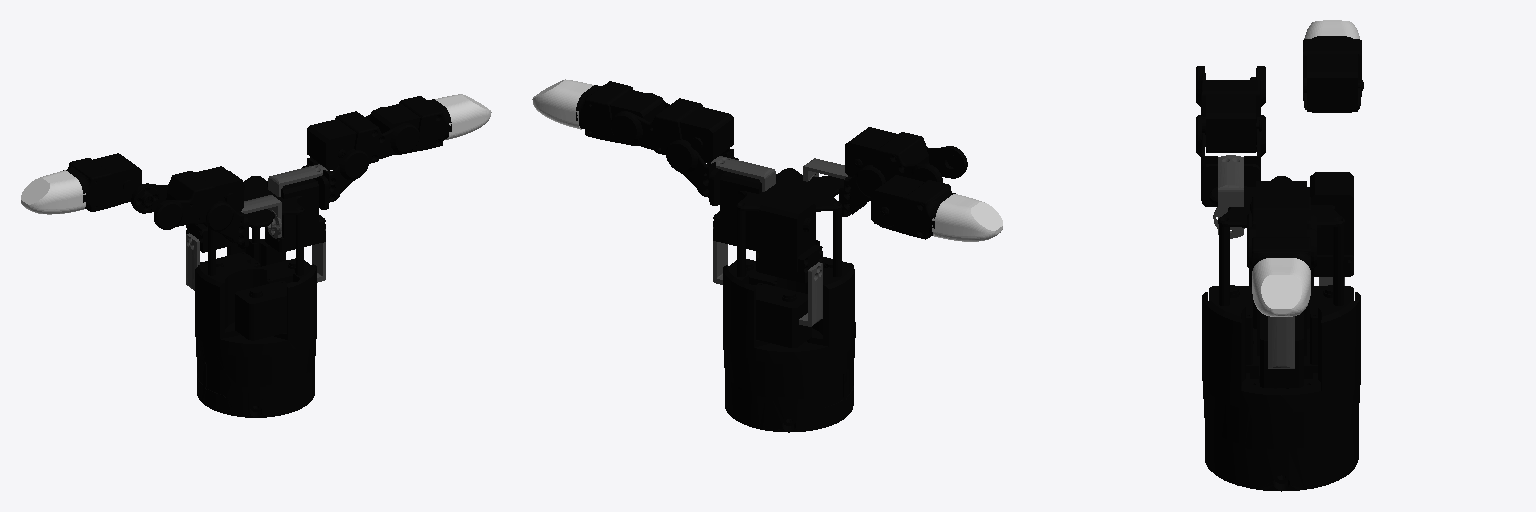
robot.urdf — dg3f_m:
<?xml version="1.0" ?>

<robot name="dg3f_m">

  <link name="l_base">
    <inertial>
      <origin xyz="-0.0022497 0.010893 0.10153" rpy="0.0 0.0 0.0" />
      <mass value="0.451" />
      <inertia ixx="0.00058791" ixy="1.5175E-06" ixz="2.9558E-06" iyy="0.00059695" iyz="2.2019E-06" izz="0.00047118" />
    </inertial>
    <visual>
      <origin xyz="0.0 0.0 0.0" rpy="0.0 0.0 0.0" />
      <geometry>
        <mesh filename="../meshes/DG3FM/visual/l_base.dae" />
      </geometry>
    </visual>
    <collision>
      <origin xyz="0.0 0.0 0.0" rpy="0.0 0.0 0.0" />
      <geometry>
        <mesh filename="../meshes/DG3FM/collision/l_base_c.STL" />
      </geometry>
    </collision>
  </link>

  <!--finger1-->
  <link name="l_1_1">
    <inertial>
      <origin xyz="0.022193 0.00068612 0.031323" rpy="0.0 0.0 0.0" />
      <mass value="0.046" />
      <inertia ixx="1.2546E-05" ixy="2.0811E-12" ixz="2.9703E-06" iyy="1.4339E-05" iyz="-4.5421E-12" izz="4.4982E-06" />
    </inertial>
    <visual>
      <origin xyz="0.0 0.0 0.0" rpy="0.0 0.0 0.0" />
      <geometry>
        <mesh filename="../meshes/DG3FM/visual/l_1_1.dae" />
      </geometry>
    </visual>
    <collision>
      <origin xyz="0.0 0.0 0.0" rpy="0.0 0.0 0.0" />
      <geometry>
        <mesh filename="../meshes/DG3FM/collision/l_1_1_c.STL" />
      </geometry>
    </collision>
  </link>
  <joint name="j_1_1" type="revolute">
    <origin xyz="0.02656 0.0 0.0807" rpy="0.0 0.0 0.0" />
    <parent link="l_base" />
    <child link="l_1_1" />
    <axis xyz="0 0 1" />
    <limit lower="-1.5708" upper="1.5708" effort="7.644" velocity="3.141592653589793" />
  </joint>

  <link name="l_1_2">
    <inertial>
      <origin xyz="0.0024353 0.0097149 -0.01236" rpy="0.0 0.0 0.0" />
      <mass value="0.027" />
      <inertia ixx="2.2017E-06" ixy="-7.2176E-08" ixz="-7.7488E-07" iyy="5.9914E-06" iyz="-9.3255E-08" izz="5.8581E-06" />
    </inertial>
    <visual>
      <origin xyz="0.0 0.0 0.0" rpy="0.0 0.0 0.0" />
      <geometry>
        <mesh filename="../meshes/DG3FM/visual/l_1_2.dae" />
      </geometry>
    </visual>
    <collision>
      <origin xyz="0.0 0.0 0.0" rpy="0.0 0.0 0.0" />
      <geometry>
        <mesh filename="../meshes/DG3FM/collision/l_1_2_c.STL" />
      </geometry>
    </collision>
  </link>
  <joint name="j_1_2" type="revolute">
    <origin xyz="0.0005 0.0 0.04" rpy="0.0 0.0 0.0" />
    <parent link="l_1_1" />
    <child link="l_1_2" />
    <axis xyz="1 0 0" />
    <limit lower="-1.76278" upper="1.76278" effort="7.644" velocity="3.141592653589793" />
  </joint>

  <link name="l_1_3">
    <inertial>
      <origin xyz="-0.14886 0.032543 0.99997" rpy="0.0 0.0 0.0" />
      <mass value="0.045" />
      <inertia ixx="2.6509E-06" ixy="-3.4446E-07" ixz="2.2529E-08" iyy="6.9707E-06" iyz="4.0639E-09" izz="7.6E-06" />
    </inertial>
    <visual>
      <origin xyz="0.0 0.0 0.0" rpy="0.0 0.0 0.0" />
      <geometry>
        <mesh filename="../meshes/DG3FM/visual/l_1_3.dae" />
      </geometry>
    </visual>
    <collision>
      <origin xyz="0.0 0.0 0.0" rpy="0.0 0.0 0.0" />
      <geometry>
        <mesh filename="../meshes/DG3FM/collision/l_1_3_c.STL" />
      </geometry>
    </collision>
  </link>
  <joint name="j_1_3" type="revolute">
    <origin xyz="0.0237 0.0 0.029" rpy="0.0 0.0 0.0" />
    <parent link="l_1_2" />
    <child link="l_1_3" />
    <axis xyz="0 -1 0" />
    <limit lower="-0.15708" upper="2.53073" effort="7.644" velocity="3.141592653589793" />
  </joint>

  <link name="l_1_4">
    <inertial>
      <origin xyz="-0.030524 -0.0005434 0.027713" rpy="0.0 0.0 0.0" />
      <mass value="0.041" />
      <inertia ixx="2.2664E-06" ixy="-5.9942E-08" ixz="4.2521E-09" iyy="3.4239E-06" iyz="-5.8003E-12" izz="3.6584E-06" />
    </inertial>
    <visual>
      <origin xyz="0.0 0.0 0.0" rpy="0.0 0.0 0.0" />
      <geometry>
        <mesh filename="../meshes/DG3FM/visual/l_1_4.dae" />
      </geometry>
    </visual>
    <collision>
      <origin xyz="0.0 0.0 0.0" rpy="0.0 0.0 0.0" />
      <geometry>
        <mesh filename="../meshes/DG3FM/collision/l_1_4_c.STL" />
      </geometry>
    </collision>
  </link>
  <joint name="j_1_4" type="revolute">
    <origin xyz="0.0434 0.0 0.0" rpy="0.0 0.0 0.0" />
    <parent link="l_1_3" />
    <child link="l_1_4" />
    <axis xyz="0 -1 0" />
    <limit lower="-0.226893" upper="2.02458" effort="7.644" velocity="3.141592653589793" />
  </joint>

  <link name="l_1_tip">
    <inertial>
      <origin xyz="-0.001569 0.010965 0.0099767" rpy="0.0 0.0 0.0" />
      <mass value="0.015" />
      <inertia ixx="8.959E-07" ixy="-9.5229E-11" ixz="6.4892E-08" iyy="8.7791E-07" iyz="-1.3588E-11" izz="1.04E-06" />
    </inertial>
    <visual>
      <origin xyz="0.0 0.0 0.0" rpy="0.0 0.0 0.0" />
      <geometry>
        <mesh filename="../meshes/DG3FM/visual/l_1_tip.dae" />
      </geometry>
    </visual>
    <collision>
      <origin xyz="0.0 0.0 0.0" rpy="0.0 0.0 0.0" />
      <geometry>
        <mesh filename="../meshes/DG3FM/collision/l_1_tip_c.STL" />
      </geometry>
    </collision>
  </link>
  <joint name="j_1_tip" type="fixed">
    <origin xyz="0.0298 0.0 0.0" rpy="0.0 0.0 0.0" />
    <parent link="l_1_4" />
    <child link="l_1_tip" />
  </joint>

  <!--finger2-->
  <link name="l_2_1">
    <inertial>
      <origin xyz="0.022193 0.00068612 0.031323" rpy="0.0 0.0 0.0" />
      <mass value="0.046" />
      <inertia ixx="1.2546E-05" ixy="2.0811E-12" ixz="2.9703E-06" iyy="1.4339E-05" iyz="-4.5421E-12" izz="4.4982E-06" />
    </inertial>
    <visual>
      <origin xyz="0.0 0.0 0.0" rpy="0.0 0.0 0.0" />
      <geometry>
        <mesh filename="../meshes/DG3FM/visual/l_2_1.dae" />
      </geometry>
    </visual>
    <collision>
      <origin xyz="0.0 0.0 0.0" rpy="0.0 0.0 0.0" />
      <geometry>
        <mesh filename="../meshes/DG3FM/collision/l_2_1_c.STL" />
      </geometry>
    </collision>
  </link>
  <joint name="j_2_1" type="revolute">
    <origin xyz="-0.01328 0.023 0.0807" rpy="0.0 0.0 0.0" />
    <parent link="l_base" />
    <child link="l_2_1" />
    <axis xyz="0 0 1" />
    <limit lower="-1.5708" upper="0.5236" effort="7.644" velocity="3.141592653589793" />
  </joint>

  <link name="l_2_2">
    <inertial>
      <origin xyz="0.0024353 0.0097149 -0.01236" rpy="0.0 0.0 0.0" />
      <mass value="0.027" />
      <inertia ixx="2.2017E-06" ixy="-7.2176E-08" ixz="-7.7488E-07" iyy="5.9914E-06" iyz="-9.3255E-08" izz="5.8581E-06" />
    </inertial>
    <visual>
      <origin xyz="0.0 0.0 0.0" rpy="0.0 0.0 0.0" />
      <geometry>
        <mesh filename="../meshes/DG3FM/visual/l_2_2.dae" />
      </geometry>
    </visual>
    <collision>
      <origin xyz="0.0 0.0 0.0" rpy="0.0 0.0 0.0" />
      <geometry>
        <mesh filename="../meshes/DG3FM/collision/l_2_2_c.STL" />
      </geometry>
    </collision>
  </link>
  <joint name="j_2_2" type="revolute">
    <origin xyz="-0.0005 0.0 0.04" rpy="0.0 0.0 0.0" />
    <parent link="l_2_1" />
    <child link="l_2_2" />
    <axis xyz="-1 0 0" />
    <limit lower="-1.76278" upper="1.76278" effort="7.644" velocity="3.141592653589793" />
  </joint>

  <link name="l_2_3">
    <inertial>
      <origin xyz="-0.14886 0.032543 0.99997" rpy="0.0 0.0 0.0" />
      <mass value="0.045" />
      <inertia ixx="2.6509E-06" ixy="-3.4446E-07" ixz="2.2529E-08" iyy="6.9707E-06" iyz="4.0639E-09" izz="7.6E-06" />
    </inertial>
    <visual>
      <origin xyz="0.0 0.0 0.0" rpy="0.0 0.0 0.0" />
      <geometry>
        <mesh filename="../meshes/DG3FM/visual/l_2_3.dae" />
      </geometry>
    </visual>
    <collision>
      <origin xyz="0.0 0.0 0.0" rpy="0.0 0.0 0.0" />
      <geometry>
        <mesh filename="../meshes/DG3FM/collision/l_2_3_c.STL" />
      </geometry>
    </collision>
  </link>
  <joint name="j_2_3" type="revolute">
    <origin xyz="-0.0237 0.0 0.029" rpy="0.0 0.0 0.0" />
    <parent link="l_2_2" />
    <child link="l_2_3" />
    <axis xyz="0 1 0" />
    <limit lower="-0.15708" upper="2.53073" effort="7.644" velocity="3.141592653589793" />
  </joint>

  <link name="l_2_4">
    <inertial>
      <origin xyz="-0.030524 -0.0005434 0.027713" rpy="0.0 0.0 0.0" />
      <mass value="0.041" />
      <inertia ixx="2.2664E-06" ixy="-5.9942E-08" ixz="4.2521E-09" iyy="3.4239E-06" iyz="-5.8003E-12" izz="3.6584E-06" />
    </inertial>
    <visual>
      <origin xyz="0.0 0.0 0.0" rpy="0.0 0.0 0.0" />
      <geometry>
        <mesh filename="../meshes/DG3FM/visual/l_2_4.dae" />
      </geometry>
    </visual>
    <collision>
      <origin xyz="0.0 0.0 0.0" rpy="0.0 0.0 0.0" />
      <geometry>
        <mesh filename="../meshes/DG3FM/collision/l_2_4_c.STL" />
      </geometry>
    </collision>
  </link>
  <joint name="j_2_4" type="revolute">
    <origin xyz="-0.0434 0.0 0.0" rpy="0.0 0.0 0.0" />
    <parent link="l_2_3" />
    <child link="l_2_4" />
    <axis xyz="0 1 0" />
    <limit lower="-0.226893" upper="2.02458" effort="7.644" velocity="3.141592653589793" />
  </joint>

  <link name="l_2_tip">
    <inertial>
      <origin xyz="-0.001569 0.010965 0.0099767" rpy="0.0 0.0 0.0" />
      <mass value="0.015" />
      <inertia ixx="8.959E-07" ixy="-9.5226E-11" ixz="6.4892E-08" iyy="8.7791E-07" iyz="-1.3587E-11" izz="1.04E-06" />
    </inertial>
    <visual>
      <origin xyz="0.0 0.0 0.0" rpy="0.0 0.0 0.0" />
      <geometry>
        <mesh filename="../meshes/DG3FM/visual/l_2_tip.dae" />
      </geometry>
    </visual>
    <collision>
      <origin xyz="0.0 0.0 0.0" rpy="0.0 0.0 0.0" />
      <geometry>
        <mesh filename="../meshes/DG3FM/collision/l_2_tip_c.STL" />
      </geometry>
    </collision>
  </link>
  <joint name="j_2_tip" type="fixed">
    <origin xyz="-0.0298 0.0 0.0" rpy="0.0 0.0 0.0" />
    <parent link="l_2_4" />
    <child link="l_2_tip"/>
  </joint>

  <!--finger3-->
  <link name="l_3_1">
    <inertial>
      <origin xyz="0.022193 0.00068612 0.031323" rpy="0.0 0.0 0.0" />
      <mass value="0.046" />
      <inertia ixx="1.2546E-05" ixy="2.0811E-12" ixz="2.9703E-06" iyy="1.4339E-05" iyz="-4.5421E-12" izz="4.4982E-06" />
    </inertial>
    <visual>
      <origin xyz="0.0 0.0 0.0" rpy="0.0 0.0 0.0" />
      <geometry>
        <mesh filename="../meshes/DG3FM/visual/l_3_1.dae" />
      </geometry>
    </visual>
    <collision>
      <origin xyz="0.0 0.0 0.0" rpy="0.0 0.0 0.0" />
      <geometry>
        <mesh filename="../meshes/DG3FM/collision/l_3_1_c.STL" />
      </geometry>
    </collision>
  </link>
  <joint name="j_3_1" type="revolute">
    <origin xyz="-0.01328 -0.023 0.0807" rpy="0.0 0.0 0.0" />
    <parent link="l_base" />
    <child link="l_3_1" />
    <axis xyz="0 0 1" />
    <limit lower="-0.5236" upper="1.5708" effort="7.644" velocity="3.141592653589793" />
  </joint>

  <link name="l_3_2">
    <inertial>
      <origin xyz="0.0024353 0.0097149 -0.01236" rpy="0 0 0" />
      <mass value="0.027" />
      <inertia ixx="2.2017E-06" ixy="-7.2176E-08" ixz="-7.7488E-07" iyy="5.9914E-06" iyz="-9.3255E-08" izz="5.8581E-06" />
    </inertial>
    <visual>
      <origin xyz="0.0 0.0 0.0" rpy="0.0 0.0 0.0" />
      <geometry>
        <mesh filename="../meshes/DG3FM/visual/l_3_2.dae" />
      </geometry>
    </visual>
    <collision>
      <origin xyz="0.0 0.0 0.0" rpy="0.0 0.0 0.0" />
      <geometry>
        <mesh filename="../meshes/DG3FM/collision/l_3_2_c.STL" />
      </geometry>
    </collision>
  </link>
  <joint name="j_3_2" type="revolute">
    <origin xyz="-0.0005 0.0 0.04" rpy="0.0 0.0 0.0" />
    <parent link="l_3_1" />
    <child link="l_3_2" />
    <axis xyz="-1 0 0" />
    <limit lower="-1.76278" upper="1.76278" effort="7.644" velocity="3.141592653589793" />
  </joint>

  <link name="l_3_3">
    <inertial>
      <origin xyz="-0.14886 0.032543 0.99997" rpy="0 0 0" />
      <mass value="0.045" />
      <inertia ixx="2.6509E-06" ixy="-3.4446E-07" ixz="2.2529E-08" iyy="6.9707E-06" iyz="4.0639E-09" izz="7.6E-06" />
    </inertial>
    <visual>
      <origin xyz="0.0 0.0 0.0" rpy="0.0 0.0 0.0" />
      <geometry>
        <mesh filename="../meshes/DG3FM/visual/l_3_3.dae" />
      </geometry>
    </visual>
    <collision>
      <origin xyz="0.0 0.0 0.0" rpy="0.0 0.0 0.0" />
      <geometry>
        <mesh filename="../meshes/DG3FM/collision/l_3_3_c.STL" />
      </geometry>
    </collision>
  </link>
  <joint name="j_3_3" type="revolute">
    <origin xyz="-0.0237 0.0 0.029" rpy="0.0 0.0 0.0" />
    <parent link="l_3_2" />
    <child link="l_3_3" />
    <axis xyz="0 1 0" />
    <limit lower="-0.15708" upper="2.53073" effort="7.644" velocity="3.141592653589793" />
  </joint>

  <link name="l_3_4">
    <inertial>
      <origin xyz="-0.030524 -0.0005434 0.027713" rpy="0 0 0" />
      <mass value="0.041" />
      <inertia ixx="2.2664E-06" ixy="-5.9942E-08" ixz="4.2521E-09" iyy="3.4239E-06" iyz="-5.8003E-12" izz="3.6584E-06" />
    </inertial>
    <visual>
      <origin xyz="0.0 0.0 0.0" rpy="0.0 0.0 0.0" />
      <geometry>
        <mesh filename="../meshes/DG3FM/visual/l_3_4.dae" />
      </geometry>
    </visual>
    <collision>
      <origin xyz="0.0 0.0 0.0" rpy="0.0 0.0 0.0" />
      <geometry>
        <mesh filename="../meshes/DG3FM/collision/l_3_4_c.STL" />
      </geometry>
    </collision>
  </link>
  <joint name="j_3_4" type="revolute">
    <origin xyz="-0.0434 0.0 0.0" rpy="0.0 0.0 0.0" />
    <parent link="l_3_3" />
    <child link="l_3_4" />
    <axis xyz="0 1 0" />
    <limit lower="-0.226893" upper="2.02458" effort="7.644" velocity="3.141592653589793" />
  </joint>

  <link name="l_3_tip">
    <inertial>
      <origin xyz="-0.001569 0.010965 0.0099767" rpy="0 0 0" />
      <mass value="0.015" />
      <inertia ixx="8.959E-07" ixy="-9.5229E-11" ixz="6.4892E-08" iyy="8.7791E-07" iyz="-1.3587E-11" izz="1.04E-06" />
    </inertial>
    <visual>
      <origin xyz="0.0 0.0 0.0" rpy="0.0 0.0 0.0" />
      <geometry>
        <mesh filename="../meshes/DG3FM/visual/l_3_tip.dae" />
      </geometry>
    </visual>
    <collision>
      <origin xyz="0.0 0.0 0.0" rpy="0.0 0.0 0.0" />
      <geometry>
        <mesh filename="../meshes/DG3FM/collision/l_3_tip_c.STL" />
      </geometry>
    </collision>
  </link>
  <joint name="j_3_tip" type="fixed">
    <origin xyz="-0.0298 0.0 0.0" rpy="0.0 0.0 0.0" />
    <parent link="l_3_4" />
    <child link="l_3_tip" />
  </joint>
</robot>

--- Render facts (derived) ---
Views: 3 orthographic renders of the robot side by side, from view 1: azimuth 30°, elevation 25°; view 2: azimuth 150°, elevation 25°; view 3: azimuth 270°, elevation 25°.
Robot: dg3f_m — 16 links, 15 joints (12 revolute, 3 fixed); root link l_base; default pose: every joint at zero.
Links seen in each view (by area): view 1: l_base, l_3_3, l_1_3, l_2_4, l_1_1, l_1_4, l_1_2, l_2_tip, l_3_2, l_1_tip, l_2_1; view 2: l_base, l_2_1, l_1_3, l_3_3, l_2_4, l_1_4, l_1_2, l_1_1, l_2_tip, l_3_2, l_1_tip; view 3: l_base, l_3_3, l_2_4, l_3_2, l_2_1, l_1_tip, l_1_3, l_1_4, l_1_1, l_2_tip.
Boxes of the visible links, bbox=[...] form: l_base: bbox=[195, 176, 316, 417]; l_3_3: bbox=[131, 166, 243, 229]; l_1_3: bbox=[307, 107, 419, 170]; l_2_4: bbox=[63, 153, 141, 211]; l_1_1: bbox=[265, 178, 325, 282]; l_1_4: bbox=[370, 96, 451, 154]; l_1_2: bbox=[268, 149, 368, 209]; l_2_tip: bbox=[21, 170, 85, 214]; l_3_2: bbox=[205, 195, 281, 248]; l_1_tip: bbox=[435, 94, 491, 139]; l_2_1: bbox=[186, 171, 244, 290]; l_base: bbox=[723, 168, 855, 432]; l_2_1: bbox=[756, 194, 822, 326]; l_1_3: bbox=[611, 93, 733, 162]; l_3_3: bbox=[845, 127, 967, 182]; l_2_4: bbox=[871, 175, 955, 239]; l_1_4: bbox=[576, 81, 664, 145]; l_1_2: bbox=[666, 139, 775, 205]; l_1_1: bbox=[713, 171, 776, 284]; l_2_tip: bbox=[932, 194, 1002, 241]; l_3_2: bbox=[803, 158, 885, 216]; l_1_tip: bbox=[532, 79, 593, 129]; l_base: bbox=[1202, 176, 1360, 491]; l_3_3: bbox=[1196, 66, 1265, 152]; l_2_4: bbox=[1303, 36, 1363, 112]; l_3_2: bbox=[1196, 115, 1265, 238]; l_2_1: bbox=[1310, 172, 1353, 285]; l_1_tip: bbox=[1252, 258, 1310, 316]; l_1_3: bbox=[1247, 181, 1316, 267]; l_1_4: bbox=[1252, 221, 1310, 270]; l_1_1: bbox=[1260, 312, 1302, 368]; l_2_tip: bbox=[1304, 20, 1359, 38].
Size in the robot's own frame: 0.3026 by 0.0763 by 0.161 metres.
Meshes: 16 distinct files referenced, 11 mesh visuals loaded (11 Collada DAE); not drawn: 5 (reference not matched to a file when rendering).
